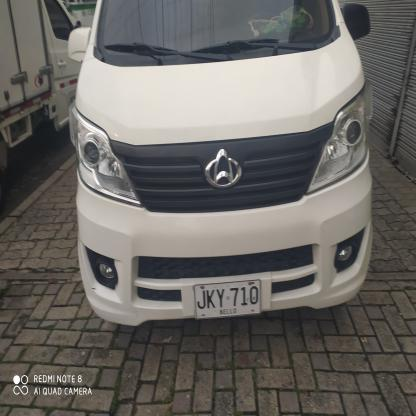placa: (190, 277, 265, 325)
